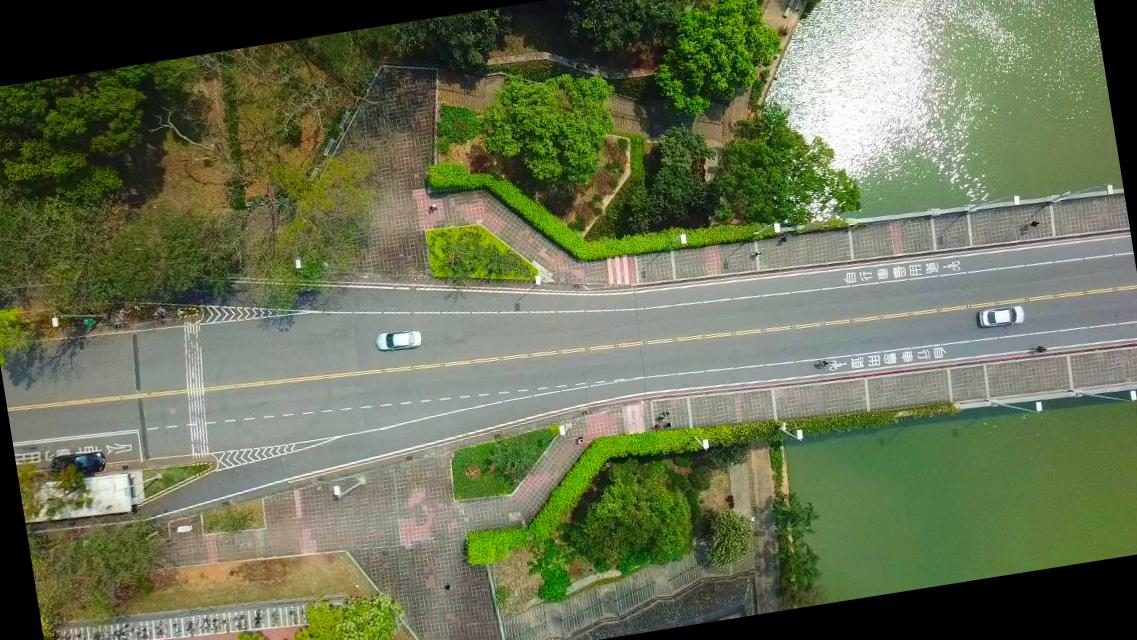vehicle: (48, 448, 108, 478), (976, 301, 1025, 331), (374, 326, 422, 354)
